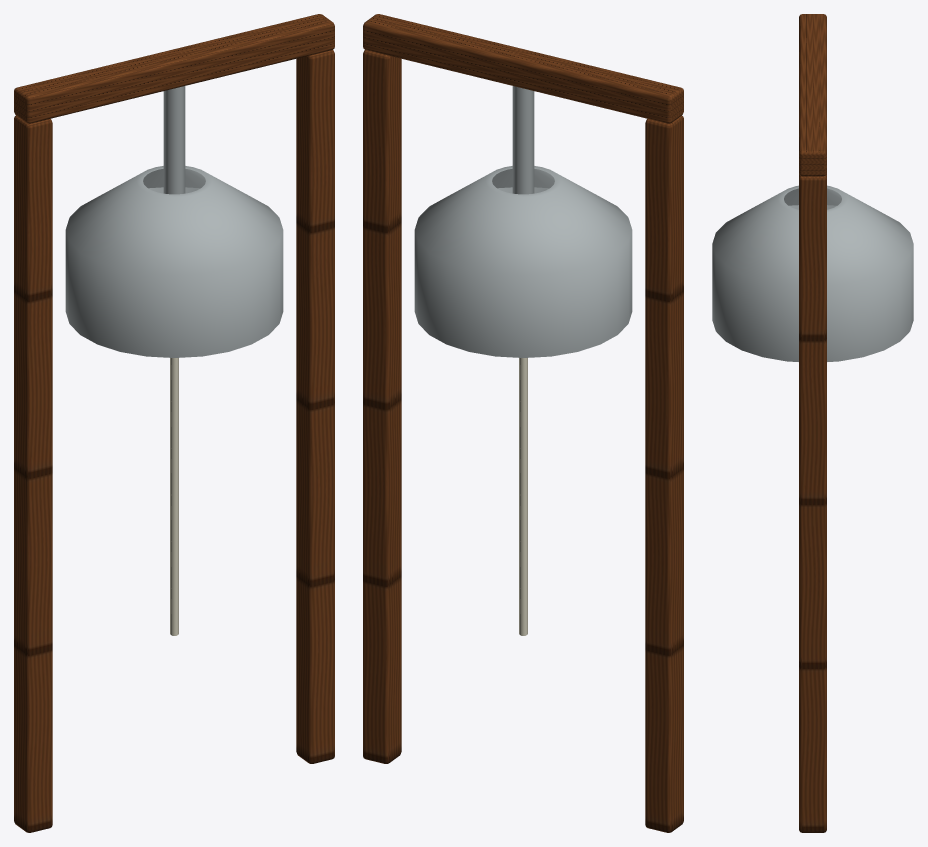
The picture shows the model from 3 angles, left to right: view 1: azimuth 30°, elevation 25°; view 2: azimuth 150°, elevation 25°; view 3: azimuth 270°, elevation 25°; orthographic projection. The views are drawn at different scales.
Parts seen in each view (by area): view 1: settlement-bell; view 2: settlement-bell; view 3: settlement-bell.
Boxes of the visible parts, x1,y1,x2,y2 form: settlement-bell: (14,14,334,832); settlement-bell: (363,14,683,832); settlement-bell: (712,14,913,832).
Bounding box in the file's own units: 0.82 × 1.87 × 0.5.
3 materials, 1 textured.
